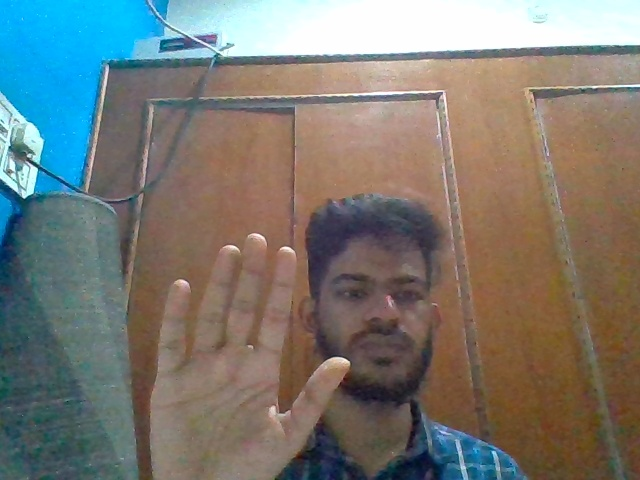hello: (147, 230, 353, 480)
